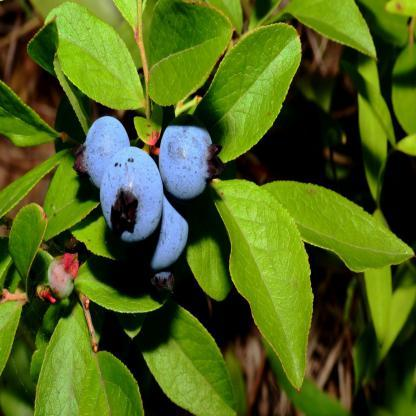Blueberry leaf: (207, 171, 316, 382), (262, 166, 416, 286), (196, 21, 310, 176), (32, 7, 152, 132), (131, 290, 241, 416), (34, 298, 147, 416), (138, 2, 240, 127), (0, 80, 77, 153)
